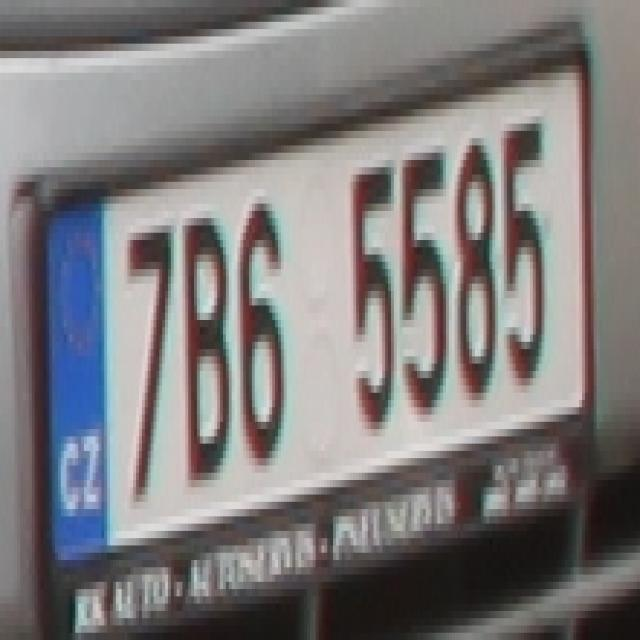5: (344, 160, 396, 429), (399, 138, 446, 414), (504, 109, 544, 378)
6: (234, 189, 284, 466)
7: (121, 218, 170, 509)
8: (452, 138, 498, 393)
B: (174, 211, 226, 480)
